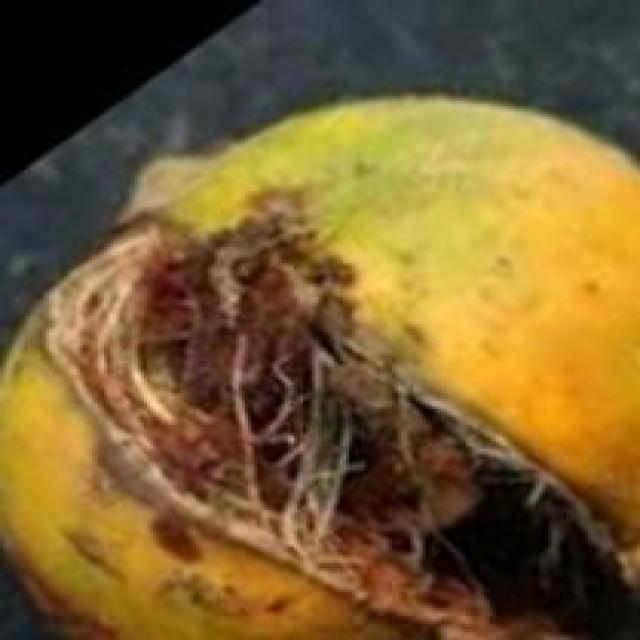damaged: (24, 93, 637, 637)
